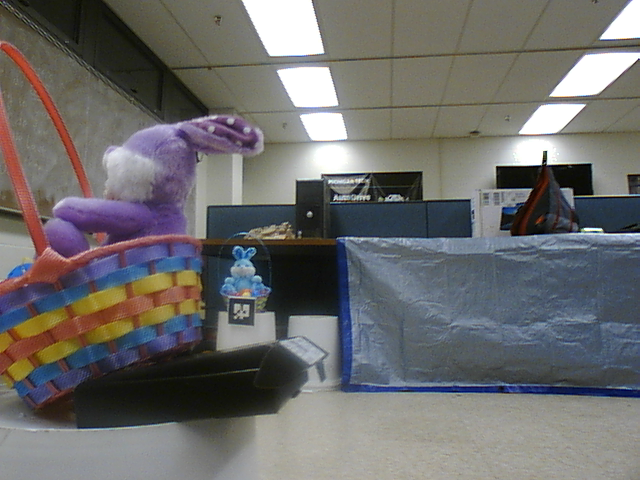bunny: (1, 62, 270, 413), (211, 228, 279, 313)
